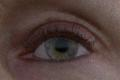eye: (45, 37, 78, 60)
